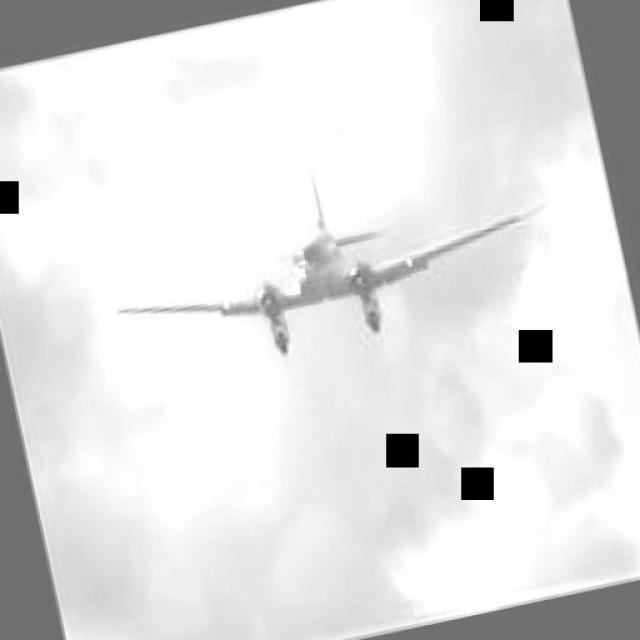aeroplane: (109, 180, 523, 345)
